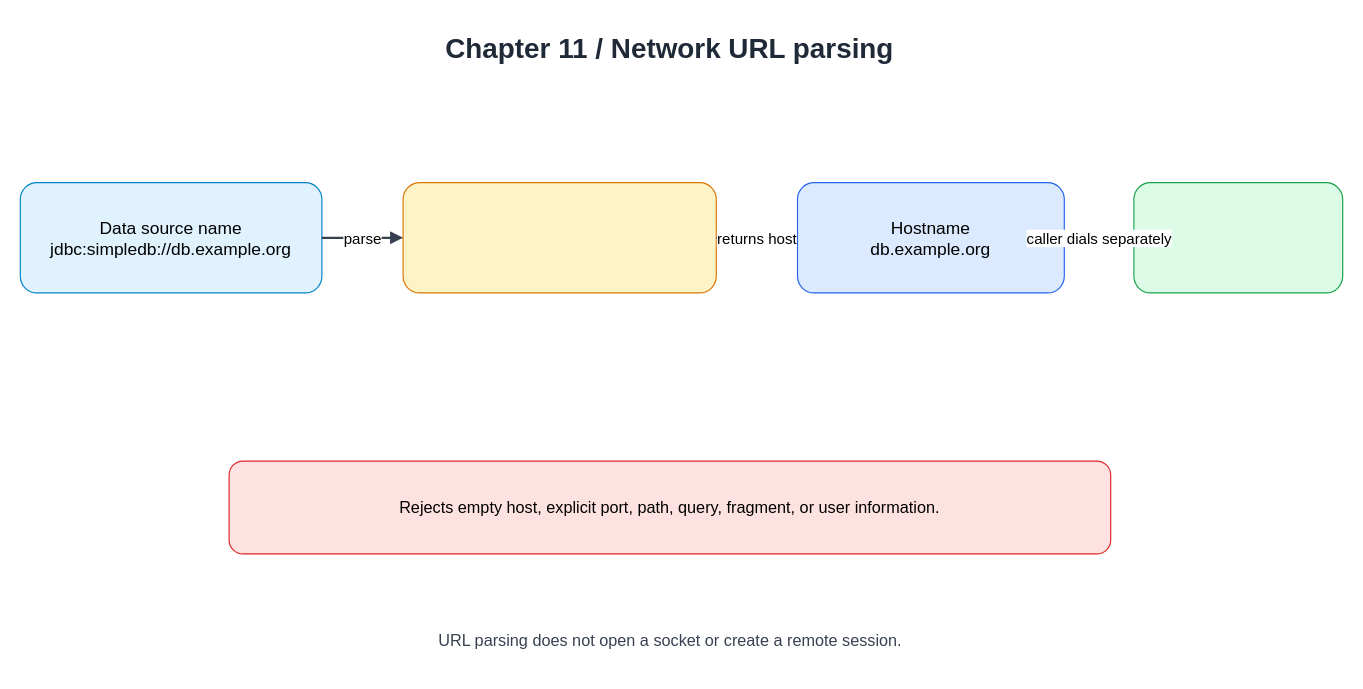
This 1363x689 diagram has some shape labels left out. The centre of each missing label's shape, as x and y in pixels:
Caller-owned dial default registry port 1099: point (1238, 237)
network.ParseNetworkURL validates URL host: point (559, 237)
